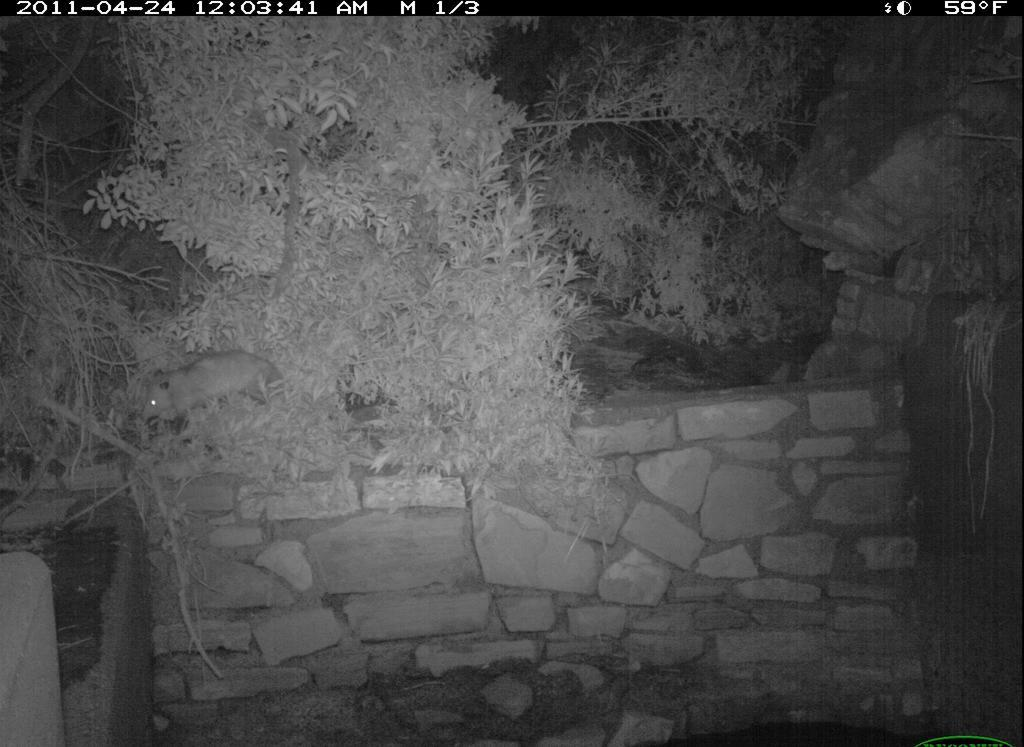opossum: (137, 347, 285, 432)
